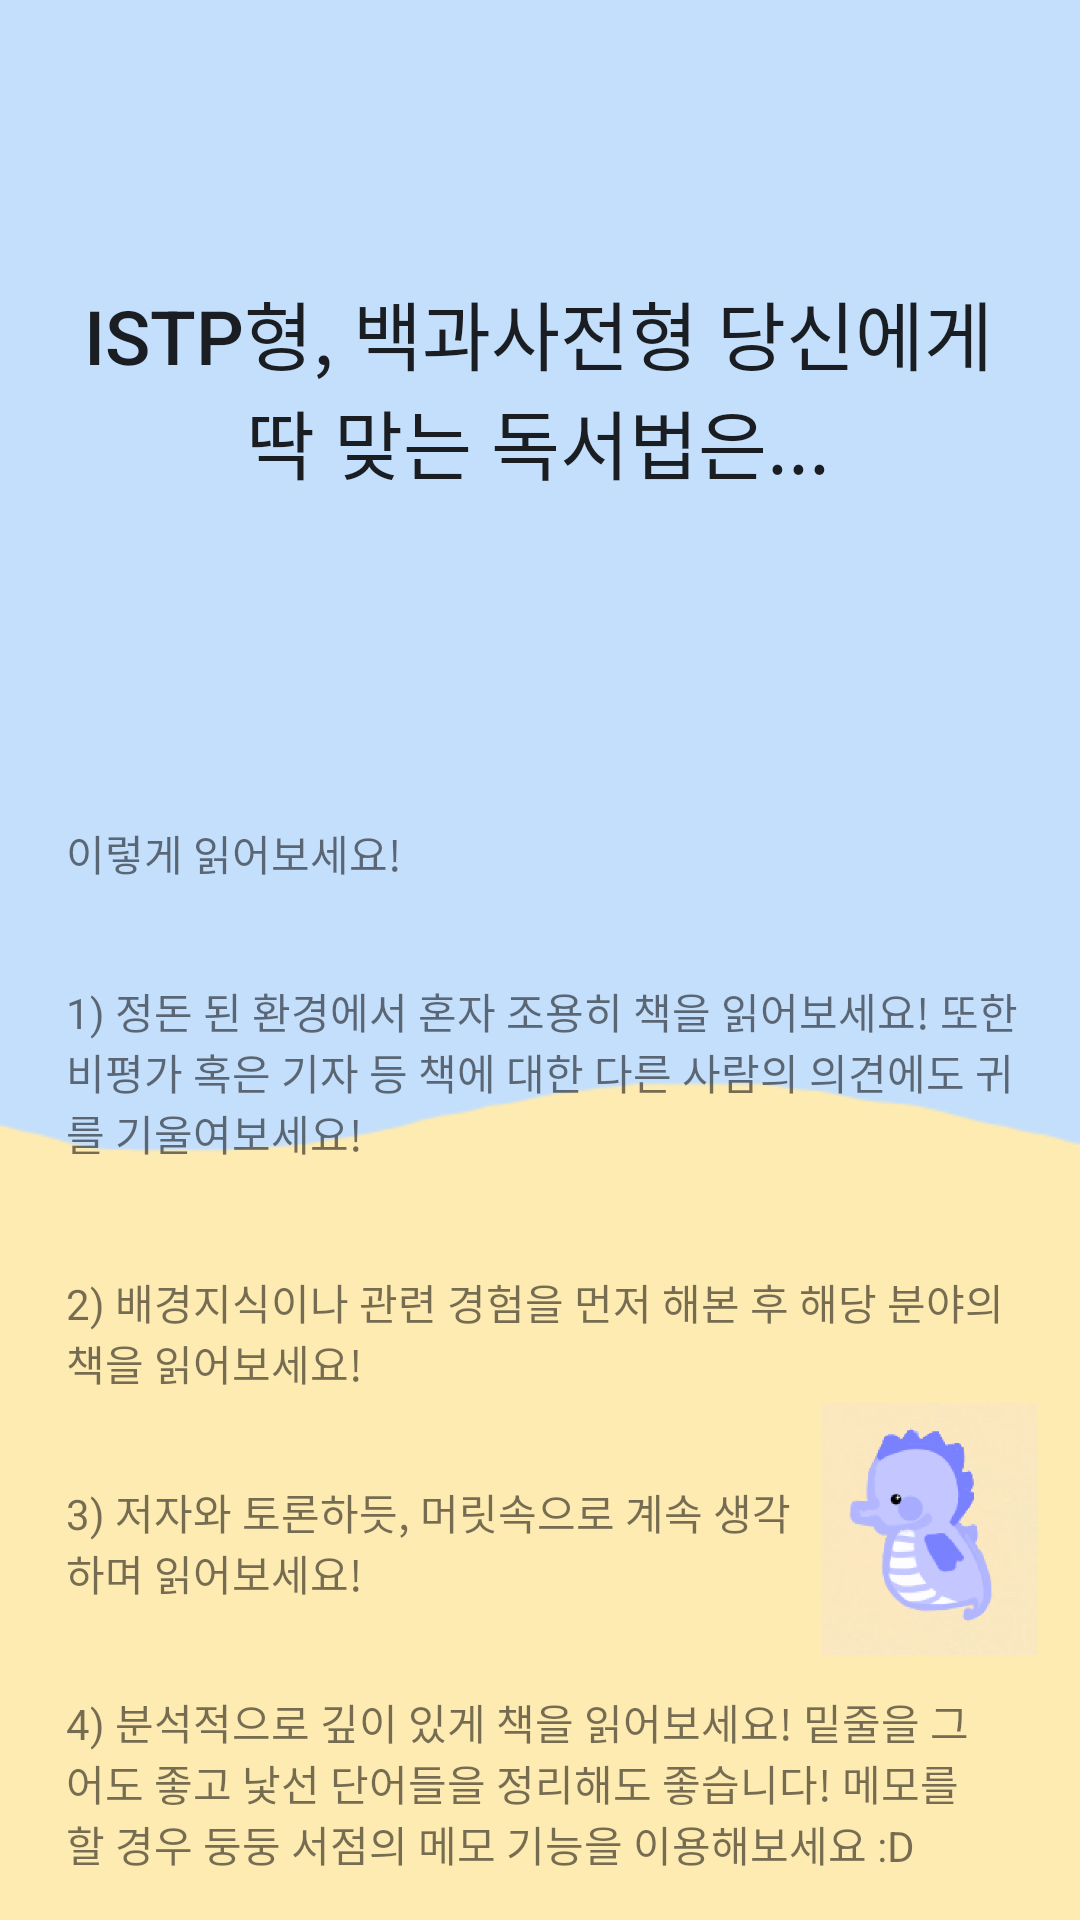

Screen size 1080*1920. Icon name, then its center in pixels as [x,y]:
seahorse: [920,1525]
